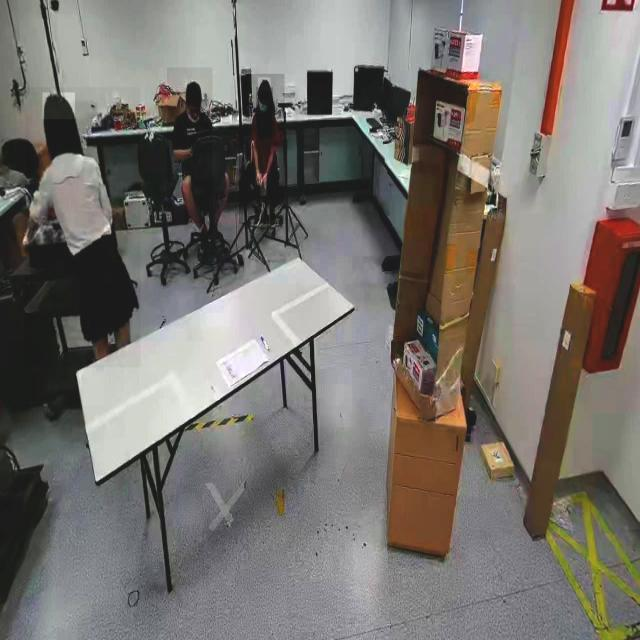face_mask: (256, 87, 273, 117)
hand_noglove: (260, 174, 268, 196), (254, 170, 262, 187)
head_nohelmet: (42, 92, 76, 120), (185, 80, 201, 95), (258, 77, 272, 91)
person: (25, 87, 141, 368), (167, 68, 213, 252), (239, 74, 285, 225)
